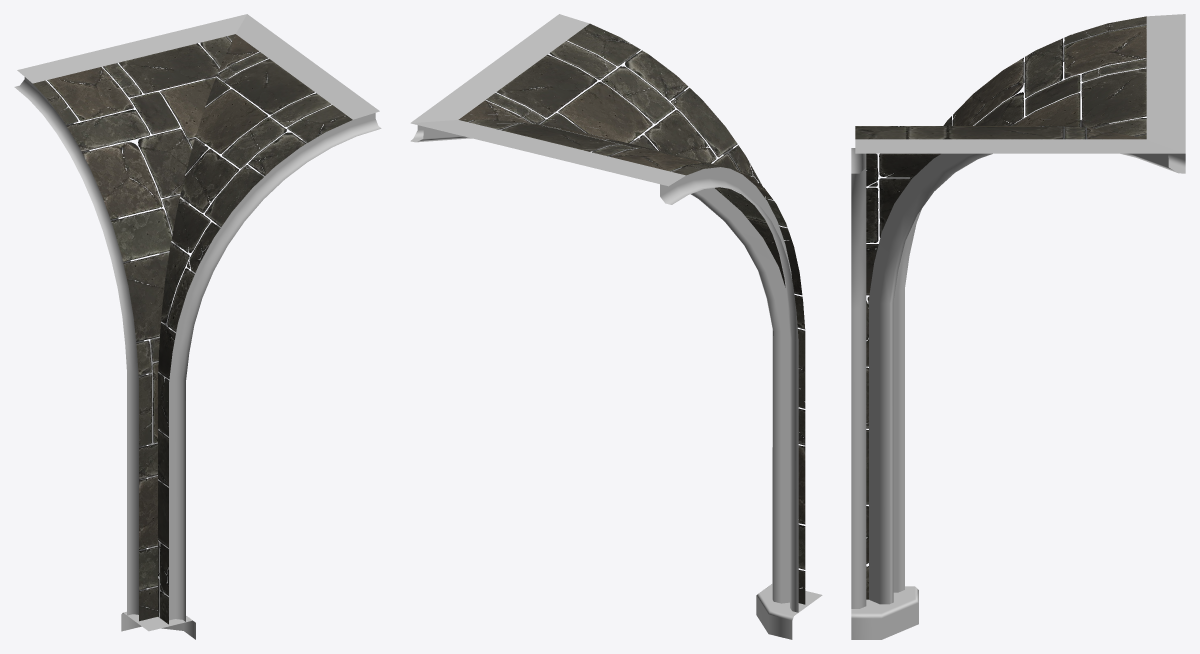
3 views of the same model, side by side, from view 1: azimuth 30°, elevation 25°; view 2: azimuth 150°, elevation 25°; view 3: azimuth 270°, elevation 25° (orthographic). The views are drawn at different scales.
Parts seen in each view (by area): view 1: SM_Dowdun_Vaulted_Ceiling_12x3_01_LOD0; view 2: SM_Dowdun_Vaulted_Ceiling_12x3_01_LOD0; view 3: SM_Dowdun_Vaulted_Ceiling_12x3_01_LOD0.
Part boxes in pixels (<box>): SM_Dowdun_Vaulted_Ceiling_12x3_01_LOD0: <box>14,14,381,639</box>; SM_Dowdun_Vaulted_Ceiling_12x3_01_LOD0: <box>410,14,822,639</box>; SM_Dowdun_Vaulted_Ceiling_12x3_01_LOD0: <box>851,14,1185,639</box>.
Bounding box in the file's own units: 6.08 × 12 × 6.08.
